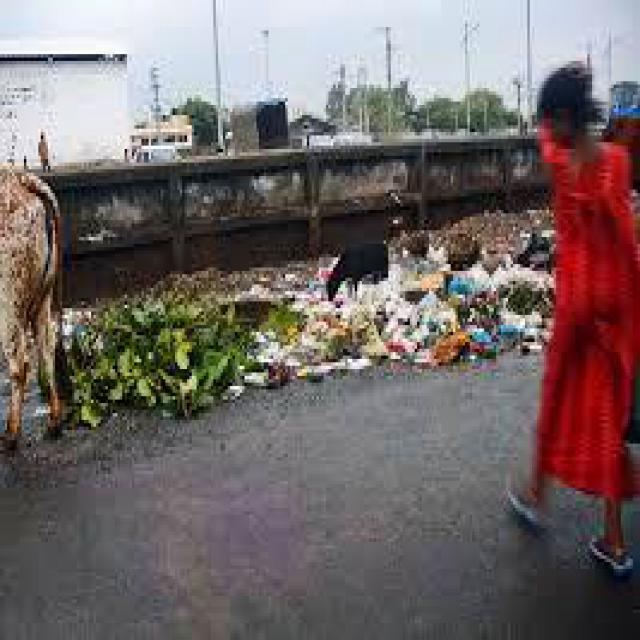garbage: (70, 186, 552, 390)
